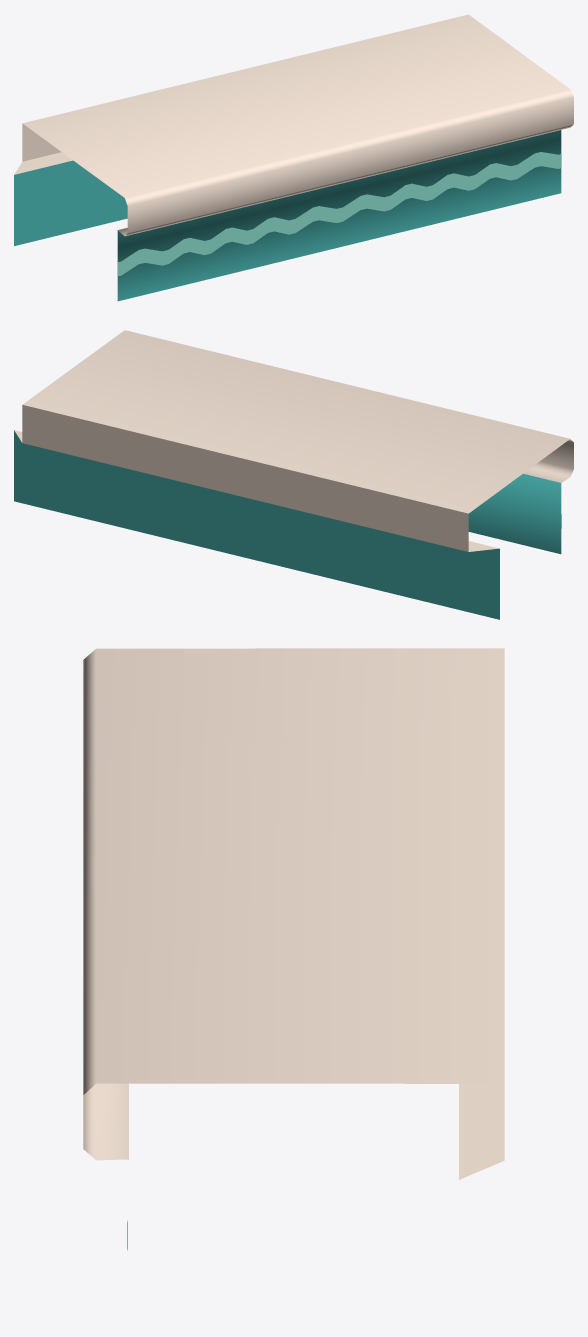
Rendered from Decor_Banbar_B_01.fbx.
3 views of the same model, one above another, from view 1: azimuth 30°, elevation 25°; view 2: azimuth 150°, elevation 25°; view 3: azimuth 270°, elevation 25° (orthographic). The views are drawn at different scales.
Parts seen in each view (by area): view 1: Decor_Banbar_B_01; view 2: Decor_Banbar_B_01; view 3: Decor_Banbar_B_01.
Part boxes in pixels (bbox=[...]): Decor_Banbar_B_01: bbox=[14, 14, 573, 301]; Decor_Banbar_B_01: bbox=[14, 330, 573, 619]; Decor_Banbar_B_01: bbox=[83, 648, 504, 1250].
Size of the model in its own units: 347 by 74.84 by 130.
